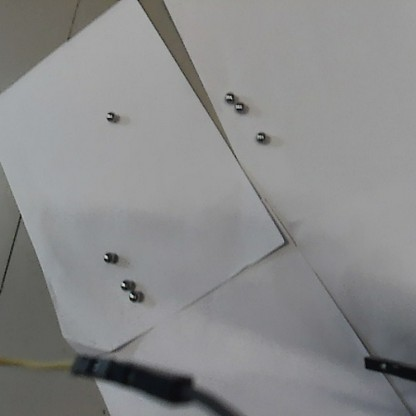ironball: (118, 276, 134, 293), (252, 130, 267, 145), (125, 288, 140, 303), (222, 89, 236, 103), (101, 249, 115, 263), (232, 101, 244, 113), (104, 110, 115, 120)
